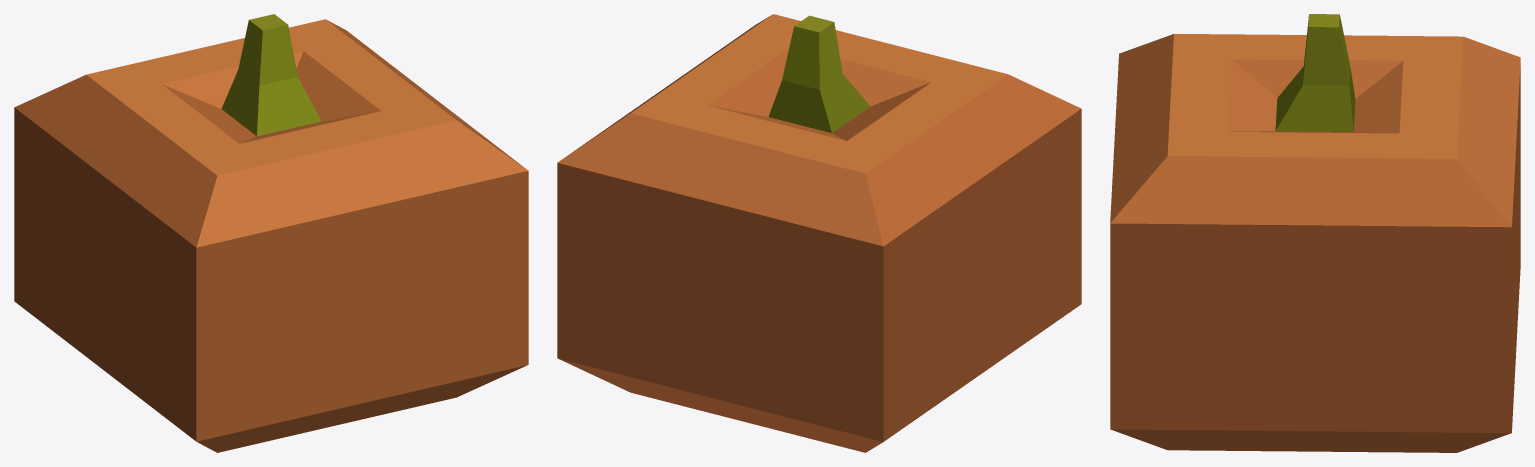
Rendered from Pumpkin.gltf.
3 views of the same model, side by side, from view 1: azimuth 30°, elevation 25°; view 2: azimuth 150°, elevation 25°; view 3: azimuth 270°, elevation 25° (orthographic). The views are drawn at different scales.
Visible parts, largest first — view 1: SF_Prop_Pumpkin_01; view 2: SF_Prop_Pumpkin_01; view 3: SF_Prop_Pumpkin_01.
Part boxes in pixels (bbox=[...]): SF_Prop_Pumpkin_01: bbox=[14, 14, 528, 452]; SF_Prop_Pumpkin_01: bbox=[557, 14, 1081, 452]; SF_Prop_Pumpkin_01: bbox=[1110, 14, 1520, 452].
Size of the model in its own units: 0.0149 by 0.0148 by 0.0149.
Materials: 1 (1 with a texture image).
